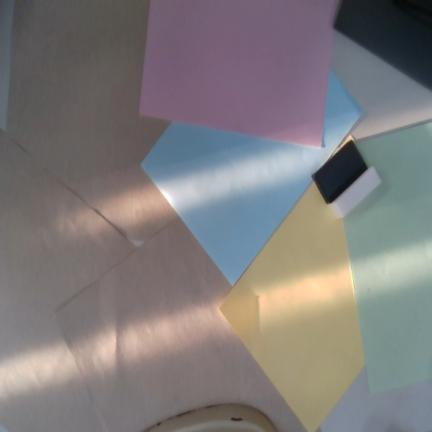Paralelepipedo: (311, 139, 368, 204), (329, 165, 383, 219)
